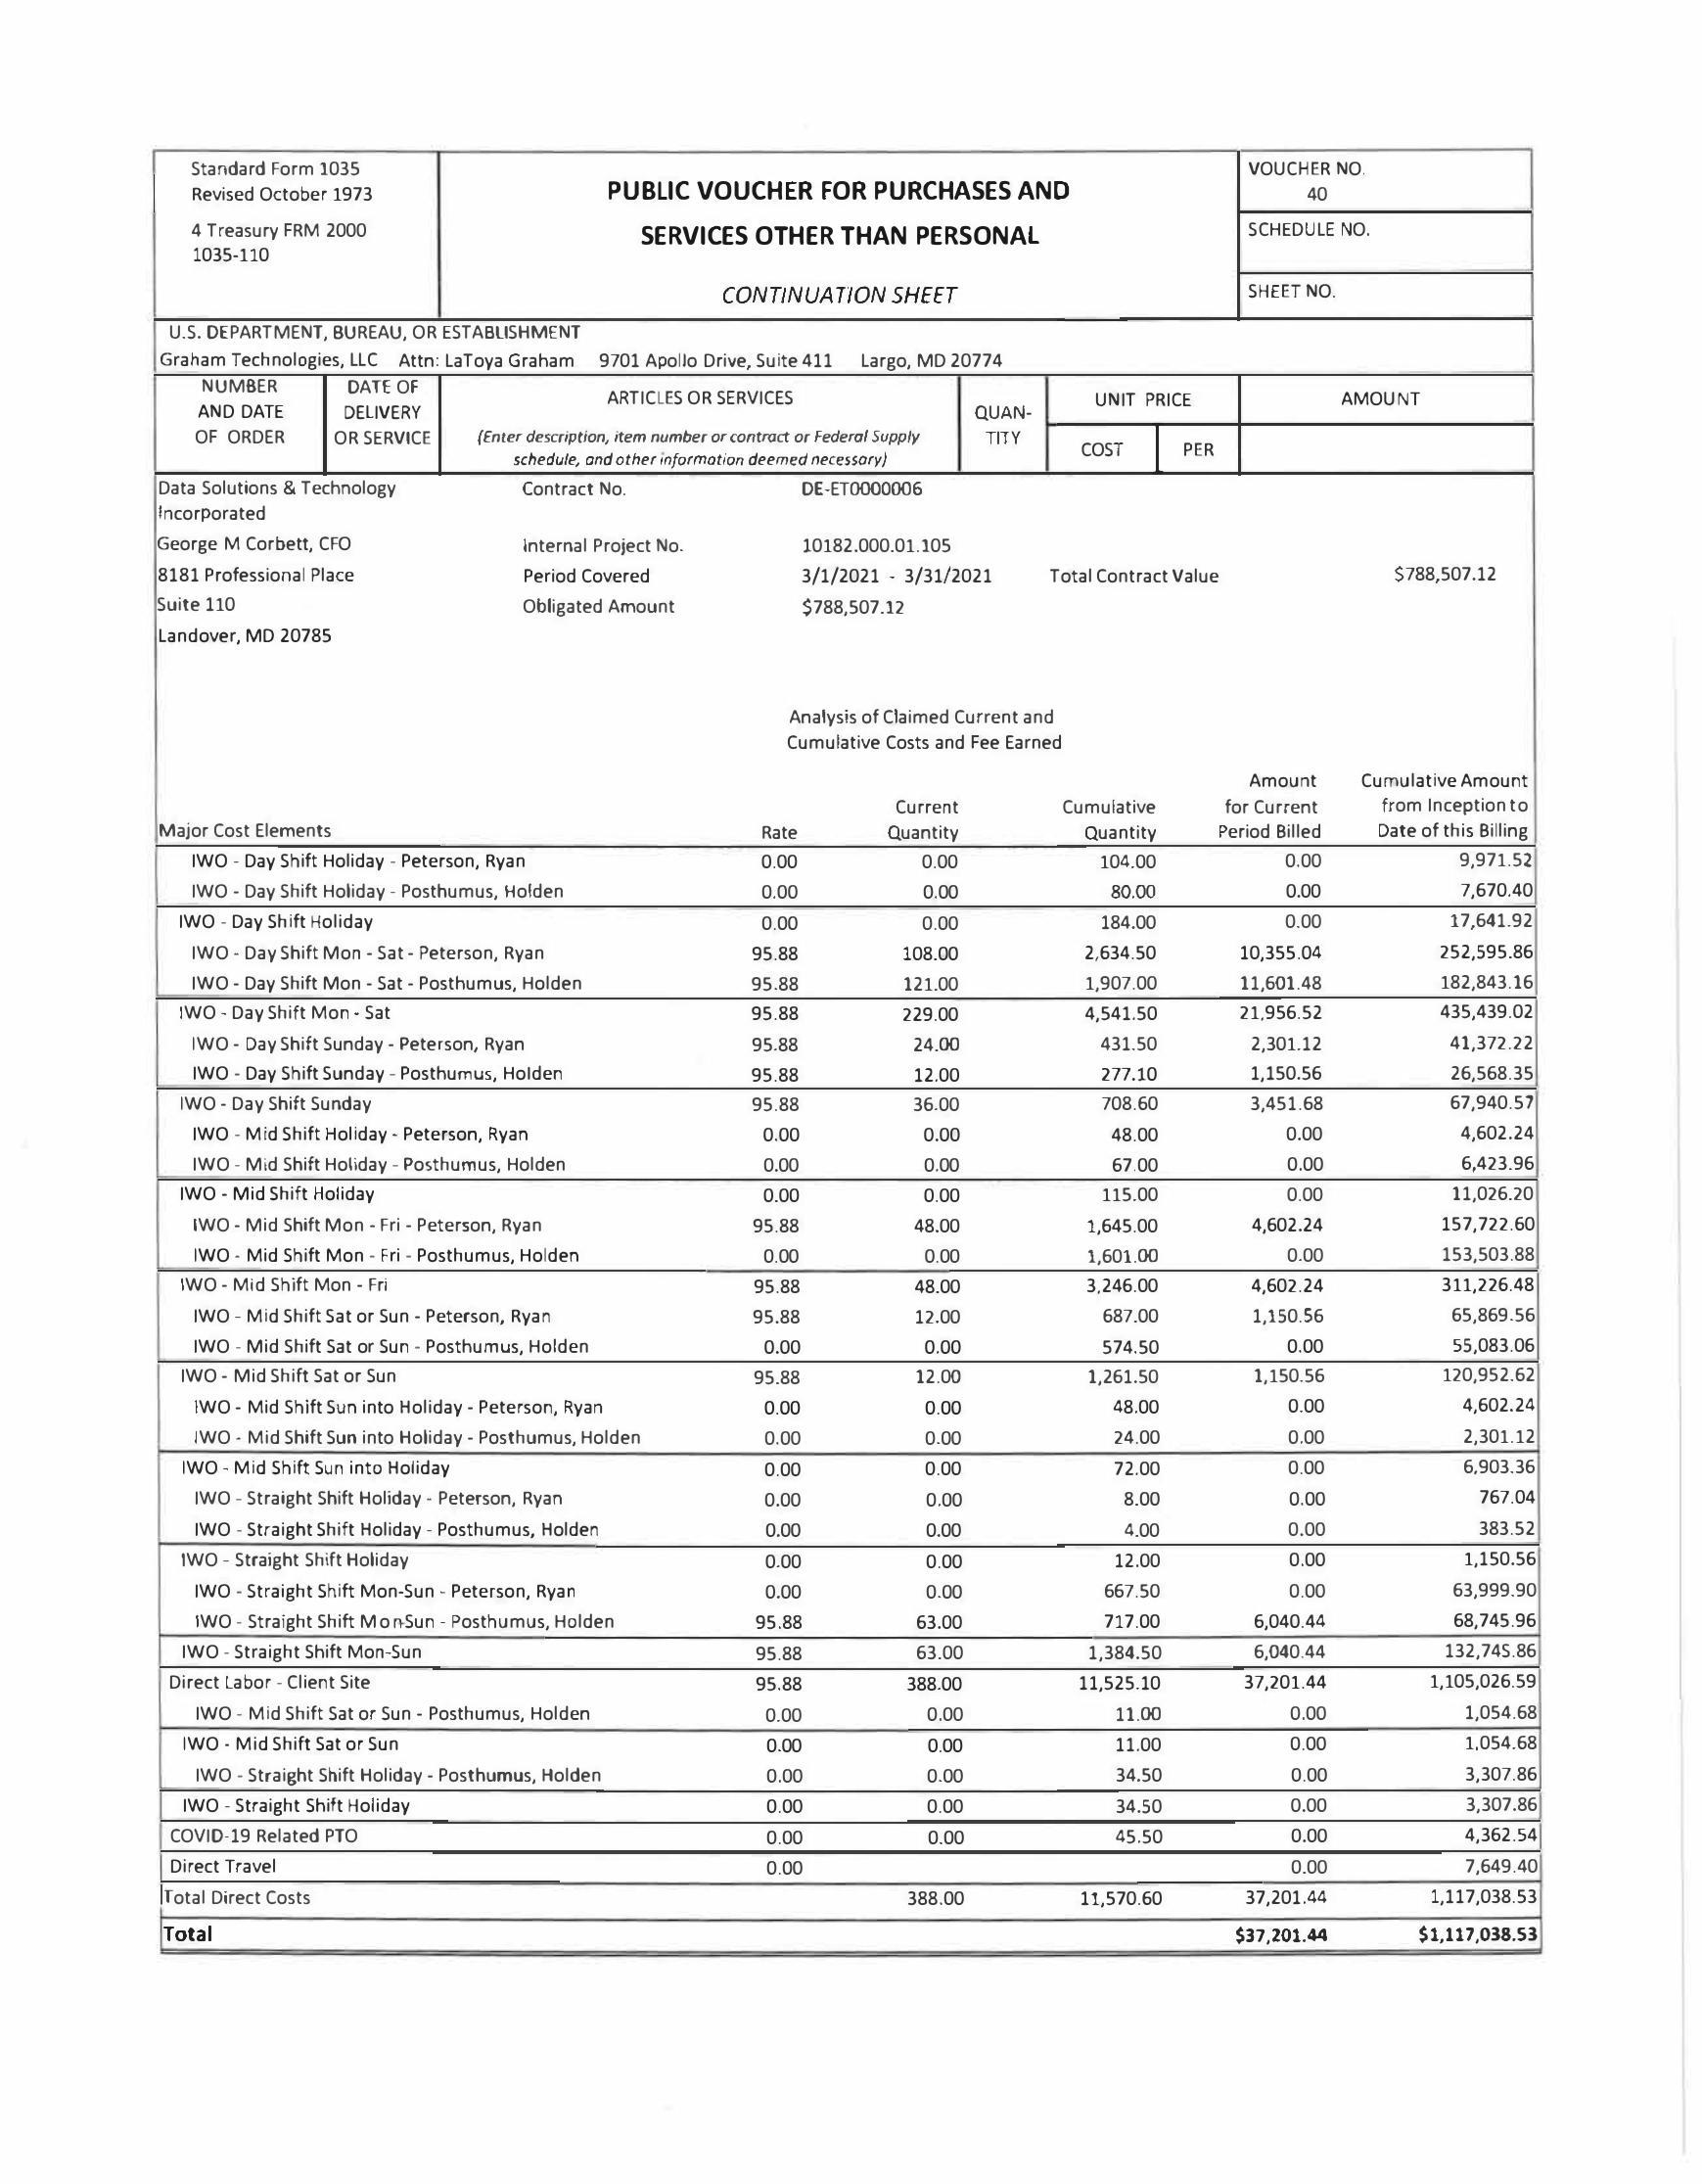table: (151, 760, 1553, 1962)
